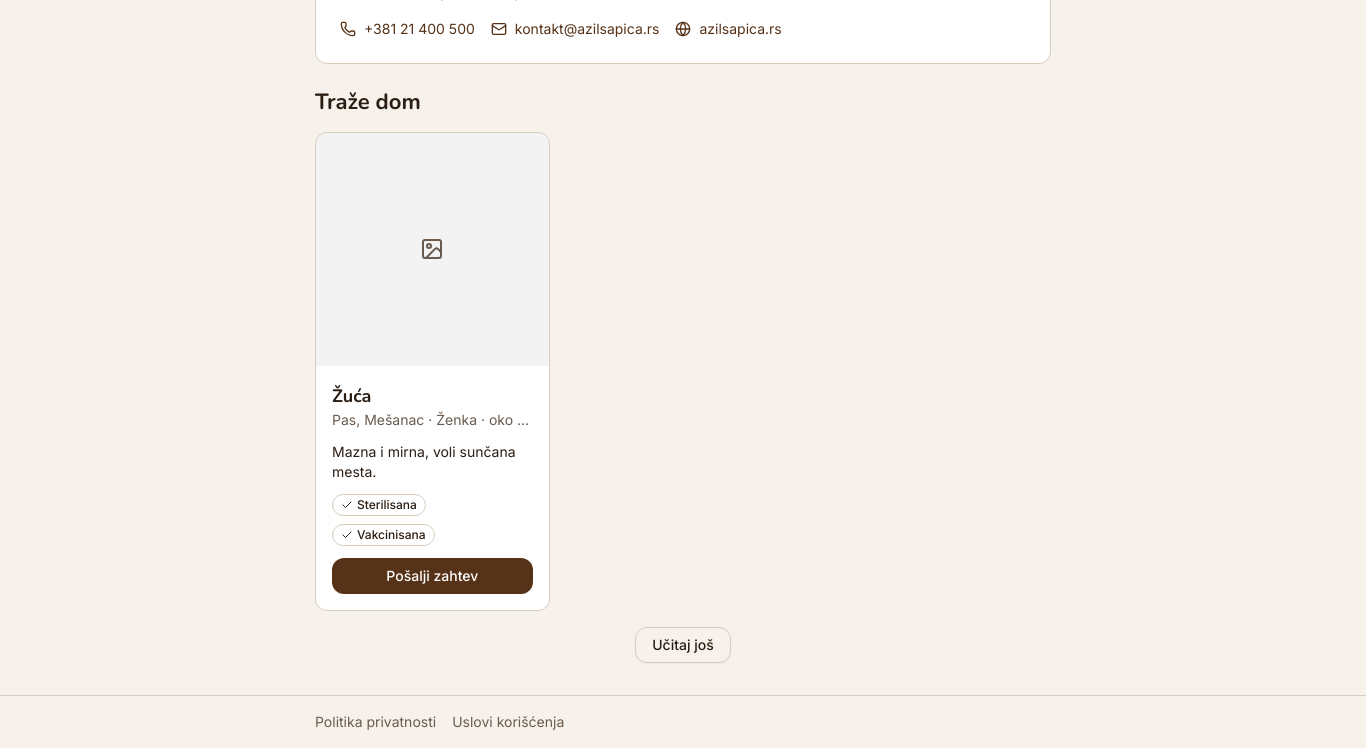
it: S23 — paging and English › Učitaj još loads the next EP-62 page
The width and height of the screenshot is (1366, 748).
(page scrolled)
Click the button "Učitaj još".
click(683, 645)  # box [635,627,731,663]
(page scrolled)
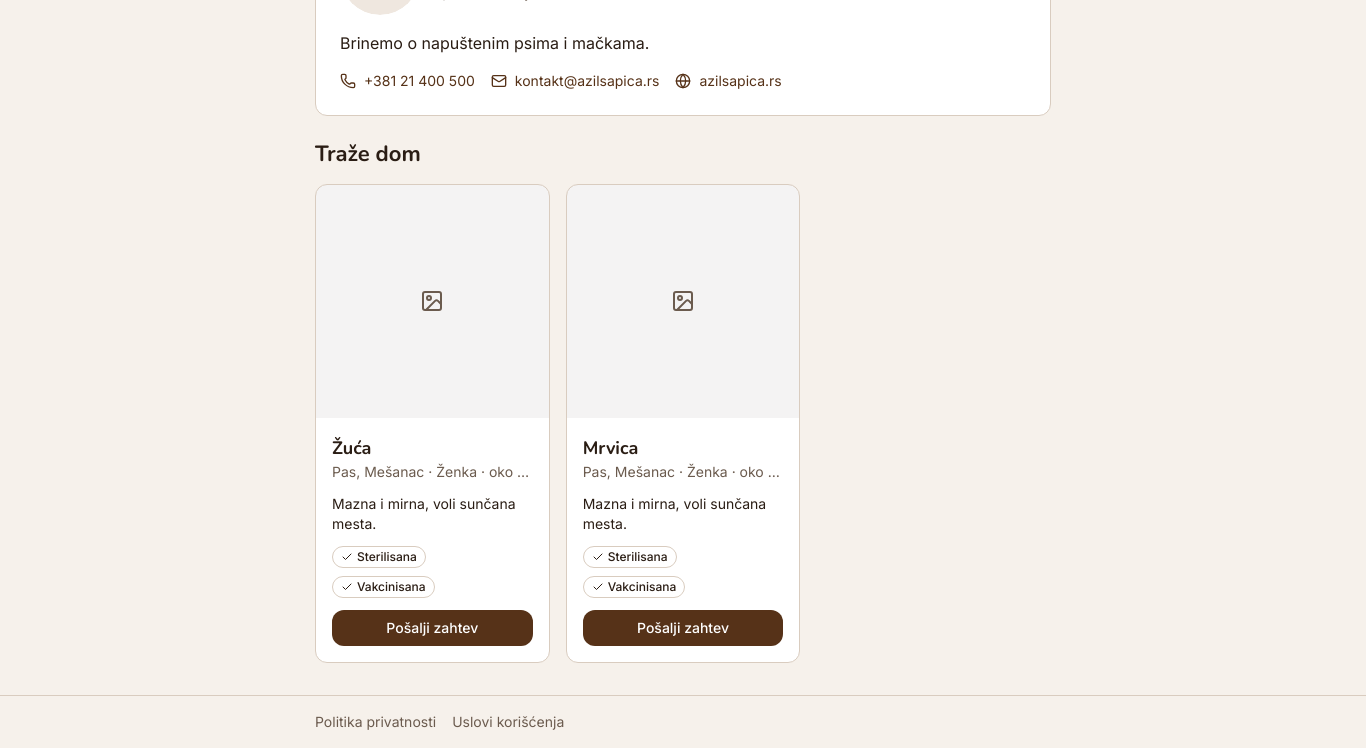
Expected: the heading "Mrvica" is shown, [583,434,638,462]
Expected: the button "Učitaj još" is gone
